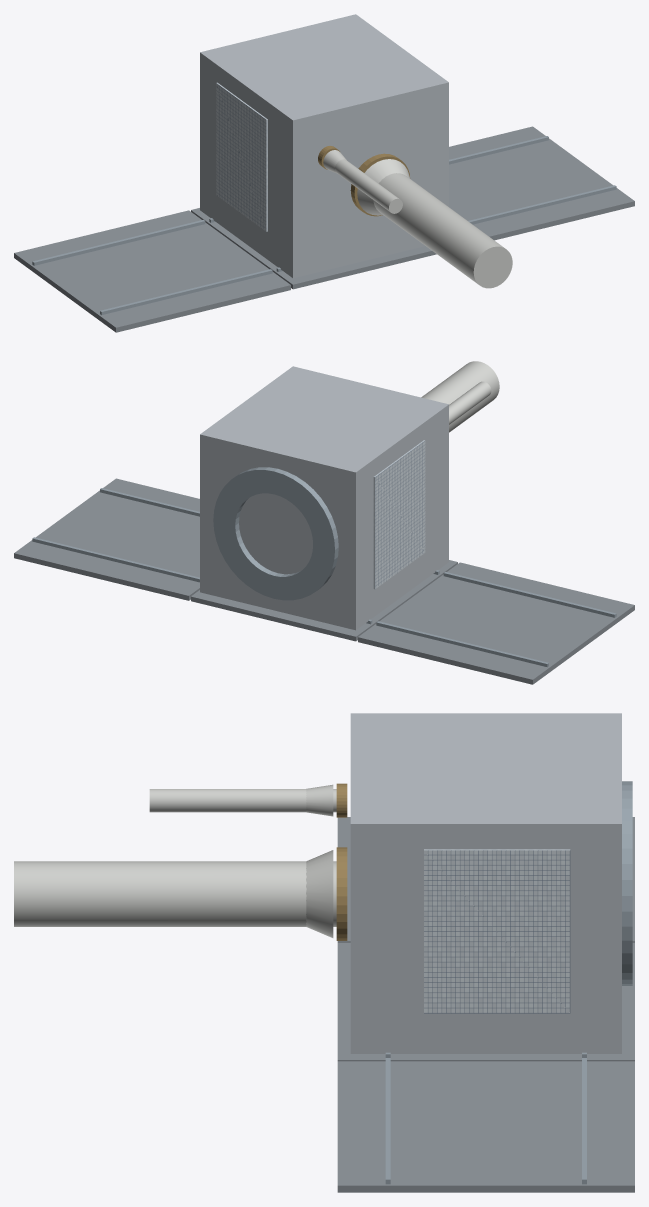
The model's file is ref-gazelle-54023.glb.
The picture shows the model from 3 angles, top to bottom: view 1: azimuth 30°, elevation 25°; view 2: azimuth 150°, elevation 25°; view 3: azimuth 270°, elevation 25°; orthographic projection. The views are drawn at different scales.
Visible parts, largest first — view 1: Spacecraft body, Solar panel substrate (×3), Argos payload radome (×2), Thermal radiator tiles, Array rear rib (×4), Antenna shoulder, Antenna flange; view 2: Spacecraft body, Solar panel substrate (×3), Launch interface, Thermal radiator tiles, Array rear rib (×4), Argos payload radome (×2); view 3: Spacecraft body, Solar panel substrate (×3), Thermal radiator tiles, Argos payload radome (×2), Antenna shoulder (×2), Launch interface, Antenna flange, Array rear rib.
Part boxes in pixels (x1,y1,x2,y2): Spacecraft body: [200, 14, 448, 278]; Solar panel substrate (×3): [14, 126, 634, 332]; Argos payload radome (×2): [335, 159, 512, 288]; Thermal radiator tiles: [216, 82, 267, 231]; Array rear rib (×4): [32, 136, 616, 315]; Antenna shoulder: [357, 159, 410, 215]; Antenna flange: [350, 153, 409, 216]; Spacecraft body: [200, 366, 448, 630]; Solar panel substrate (×3): [14, 478, 634, 684]; Launch interface: [213, 467, 338, 600]; Thermal radiator tiles: [373, 440, 425, 589]; Array rear rib (×4): [32, 488, 616, 667]; Argos payload radome (×2): [421, 361, 499, 432]; Spacecraft body: [350, 713, 621, 1053]; Solar panel substrate (×3): [337, 817, 634, 1192]; Thermal radiator tiles: [424, 849, 570, 1013]; Argos payload radome (×2): [14, 789, 336, 926]; Antenna shoulder (×2): [306, 784, 333, 937]; Launch interface: [622, 781, 632, 985]; Antenna flange: [336, 847, 347, 940]; Array rear rib: [385, 1058, 390, 1184].
Bounding box in the file's own units: 1.99 × 0.607 × 1.42.
7 materials, 2 textured.
